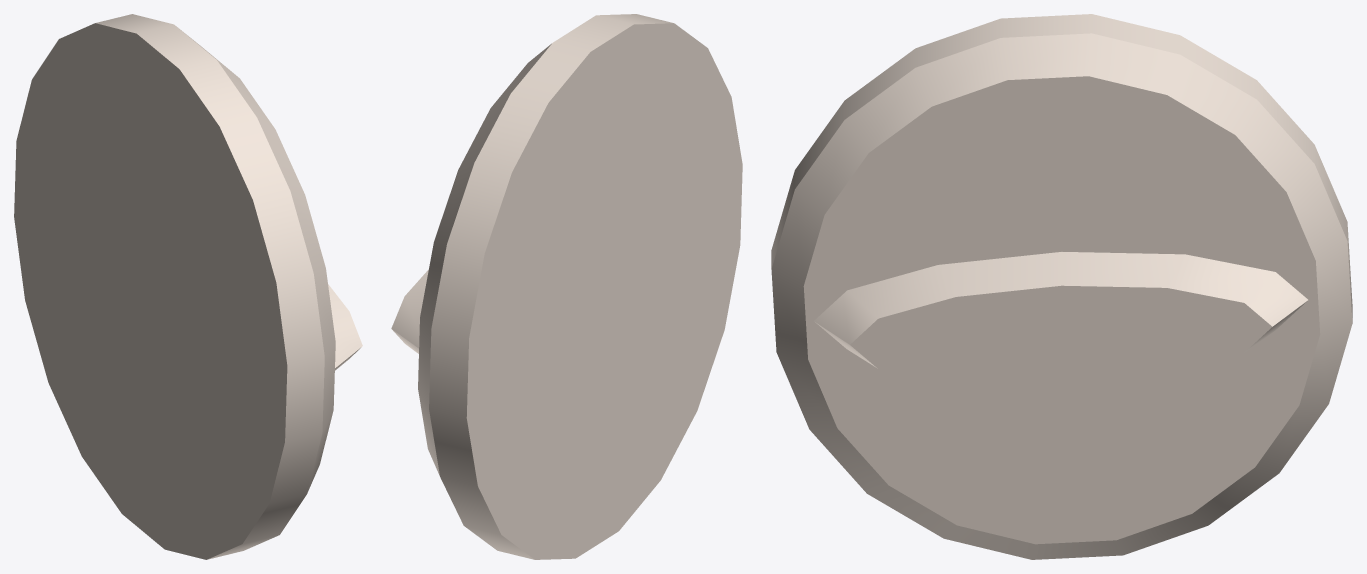
File: StoveKnob_6b8b86b5.obj
3 views of the same model, side by side, from view 1: azimuth 30°, elevation 25°; view 2: azimuth 150°, elevation 25°; view 3: azimuth 270°, elevation 25° (orthographic). The views are drawn at different scales.
Visible parts, largest first — view 1: StoveKnobTurn2_108f7b5d; view 2: StoveKnobTurn2_108f7b5d; view 3: StoveKnobTurn2_108f7b5d.
Part boxes in pixels (x1,y1,x2,y2): StoveKnobTurn2_108f7b5d: [14, 14, 362, 559]; StoveKnobTurn2_108f7b5d: [391, 14, 742, 559]; StoveKnobTurn2_108f7b5d: [771, 14, 1352, 559].
Size of the model in its own units: 0.0133 by 0.0558 by 0.0558.
